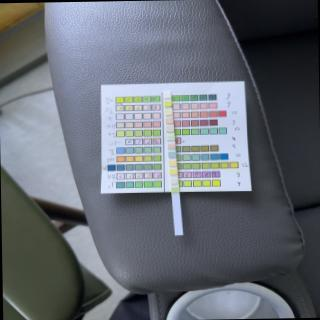mark: (171, 186, 179, 193), (163, 91, 171, 98), (170, 177, 177, 184), (170, 160, 177, 167), (168, 152, 176, 158), (167, 135, 175, 141), (169, 169, 178, 174), (164, 101, 172, 106), (167, 127, 174, 132), (166, 119, 173, 124), (165, 111, 172, 116), (168, 144, 175, 148)
